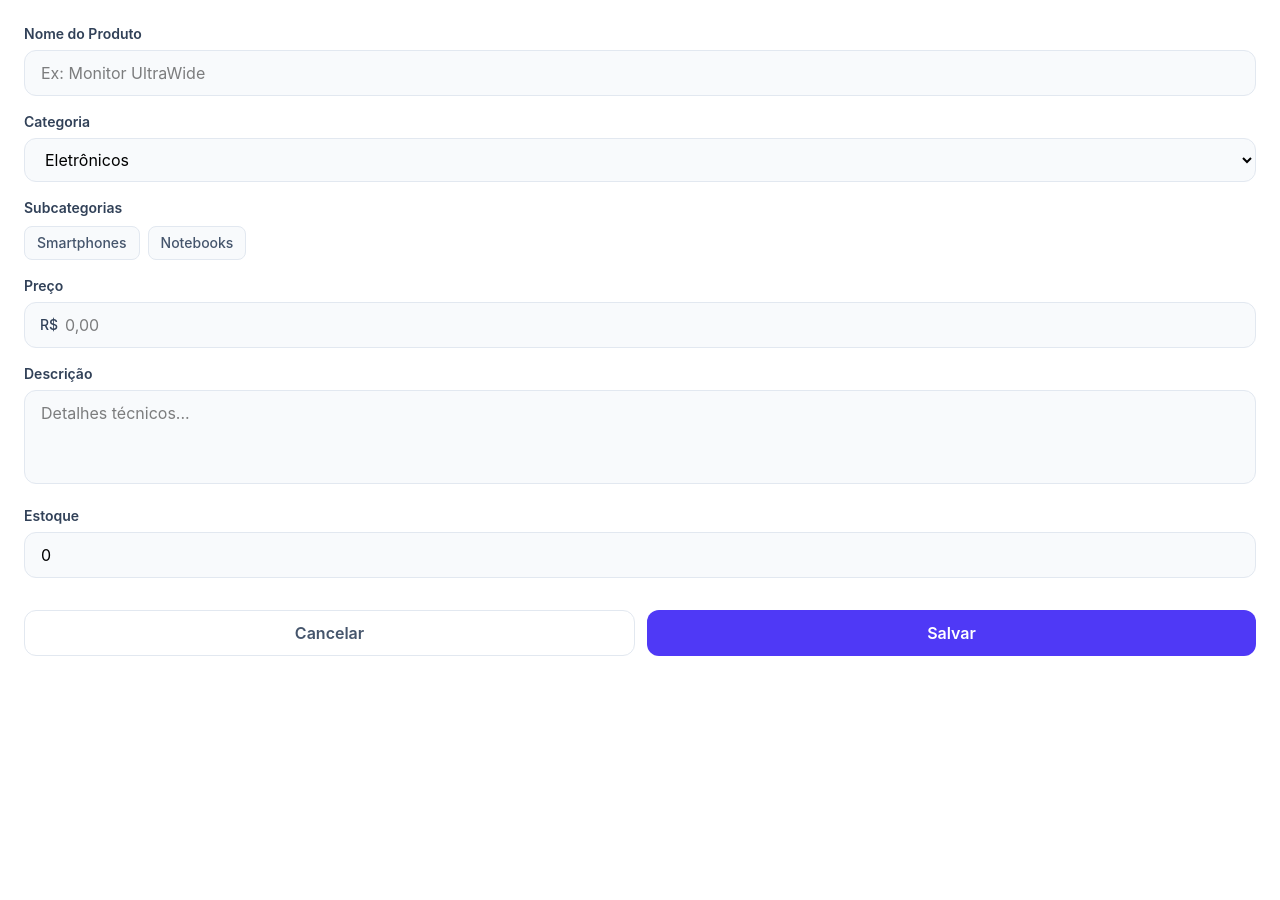
Test case: ProductForm › preço › deve formatar preço corretamente
The image size is (1280, 900).
Type "25050" into the field with placeholder "0,00" at (640, 325), box [24,302,1256,348]
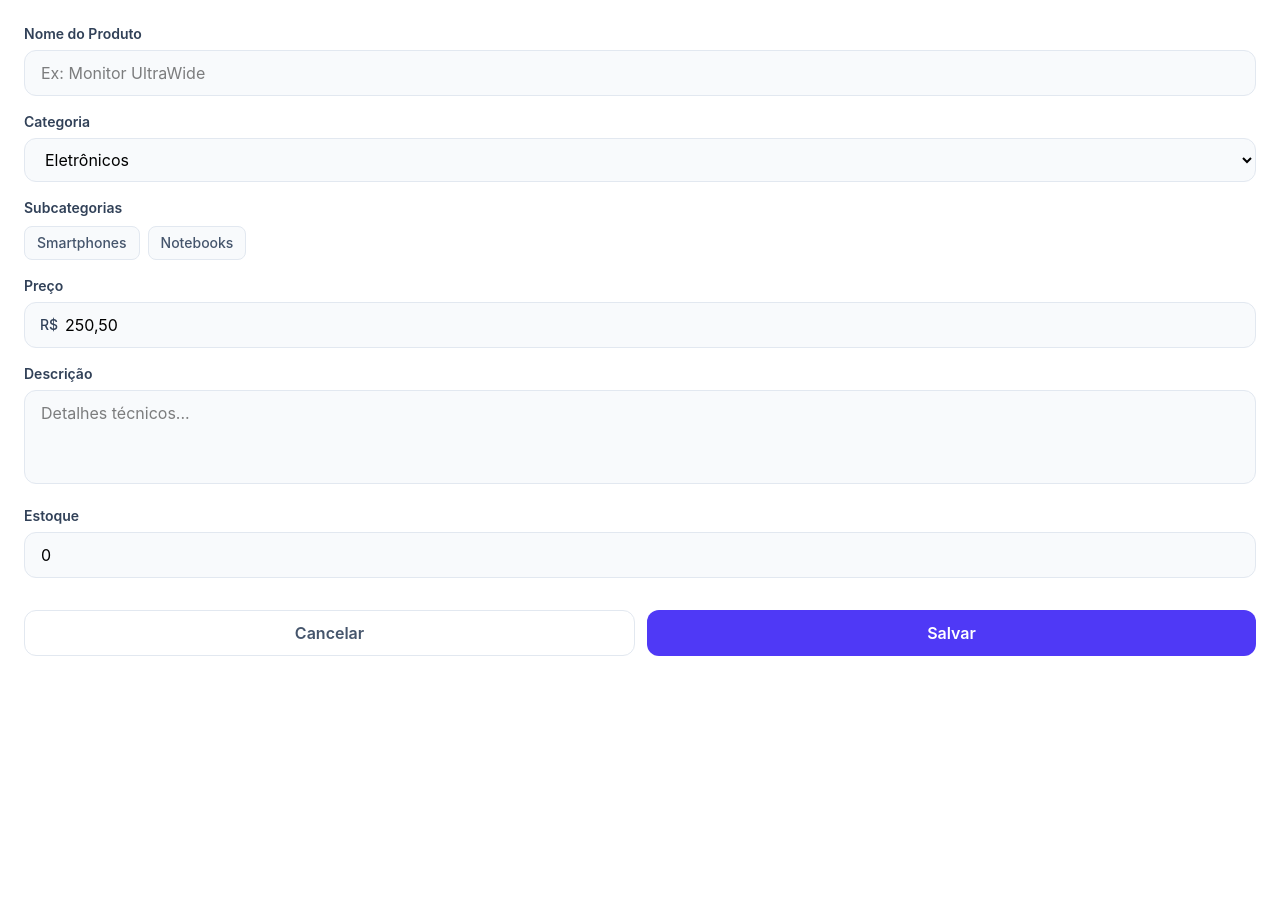
Expected: the field with placeholder "0,00" holds "250,50", [24,302,1256,348]
